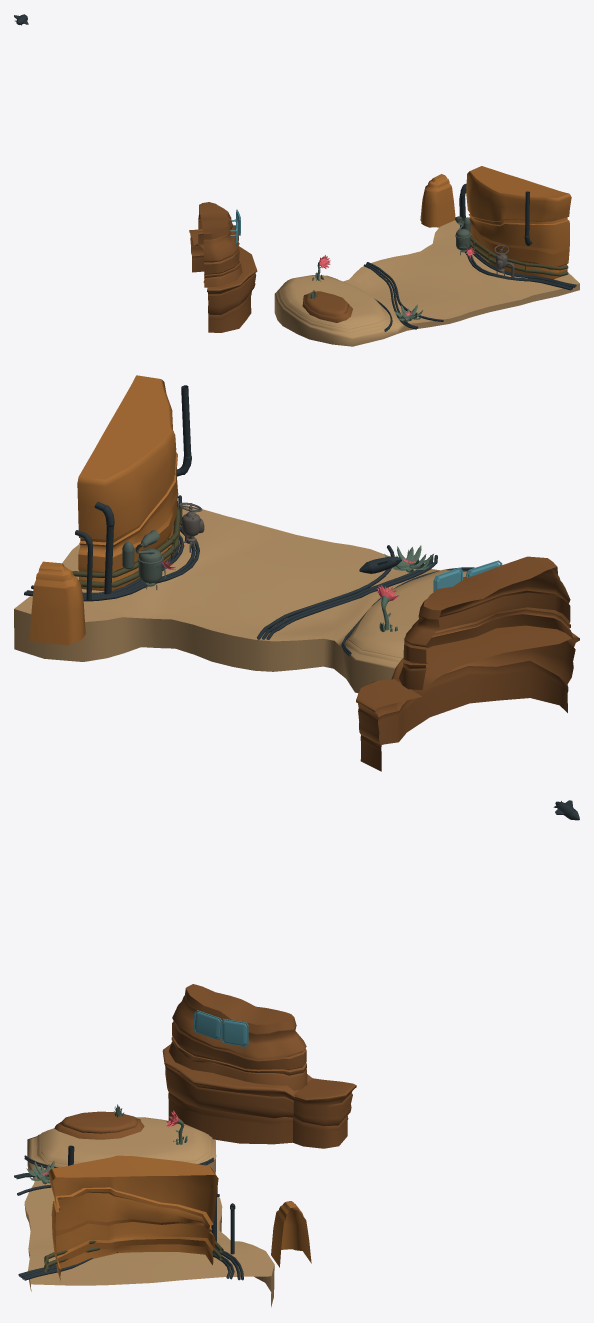
The model's file is ForeGround Full 1.fbx.
3 renders of one model, top to bottom at view 1: azimuth 30°, elevation 25°; view 2: azimuth 150°, elevation 25°; view 3: azimuth 270°, elevation 25°, orthographic. The views are drawn at different scales.
Visible parts, largest first — view 1: Ground, RightWall, LftMtnTier_02, LftMtnTier_01, MntSeparation, SecondTierGrnd, SteamPipesRoundRght, RghtWireBundle_01; view 2: Ground, LftMtnTier_02, RightWall, LftMtnTier_01, MntSeparation, RghtWireBundleGrnd, SteamPipesRoundRght, RghtWireBundle_01, RightUpPipe_01, FrntPipe, RgtWireBundleGrnd_02; view 3: RightWall, Ground, LftMtnTier_02, LftMtnTier_01, SecondTierGrnd, MntSeparation, pasted__SolarPanel_02, pasted__SolarPanel_01.
Boxes of the visible parts, box(x1,y1,x2,y2) form: Ground: box(274, 217, 579, 346); RightWall: box(466, 166, 571, 279); LftMtnTier_02: box(189, 229, 257, 332); LftMtnTier_01: box(198, 202, 242, 287); MntSeparation: box(420, 174, 455, 227); SecondTierGrnd: box(302, 291, 352, 322); SteamPipesRoundRght: box(470, 236, 568, 276); RghtWireBundle_01: box(465, 250, 572, 290); Ground: box(14, 503, 467, 692); LftMtnTier_02: box(356, 625, 579, 771); RightWall: box(77, 375, 178, 591); LftMtnTier_01: box(399, 556, 573, 689); MntSeparation: box(29, 561, 85, 645); RghtWireBundleGrnd: box(262, 555, 437, 639); SteamPipesRoundRght: box(72, 507, 182, 587); RghtWireBundle_01: box(24, 495, 199, 601); RightUpPipe_01: box(94, 502, 114, 594); FrntPipe: box(176, 385, 191, 476); RgtWireBundleGrnd_02: box(257, 545, 394, 639); RightWall: box(48, 1155, 218, 1280); Ground: box(24, 1117, 274, 1307); LftMtnTier_02: box(162, 1044, 356, 1148); LftMtnTier_01: box(169, 984, 307, 1090); SecondTierGrnd: box(54, 1111, 144, 1139); MntSeparation: box(271, 1201, 311, 1267); pasted__SolarPanel_02: box(221, 1018, 248, 1046); pasted__SolarPanel_01: box(193, 1010, 221, 1039).
Bounding box in the file's own units: 850 × 503 × 890.
